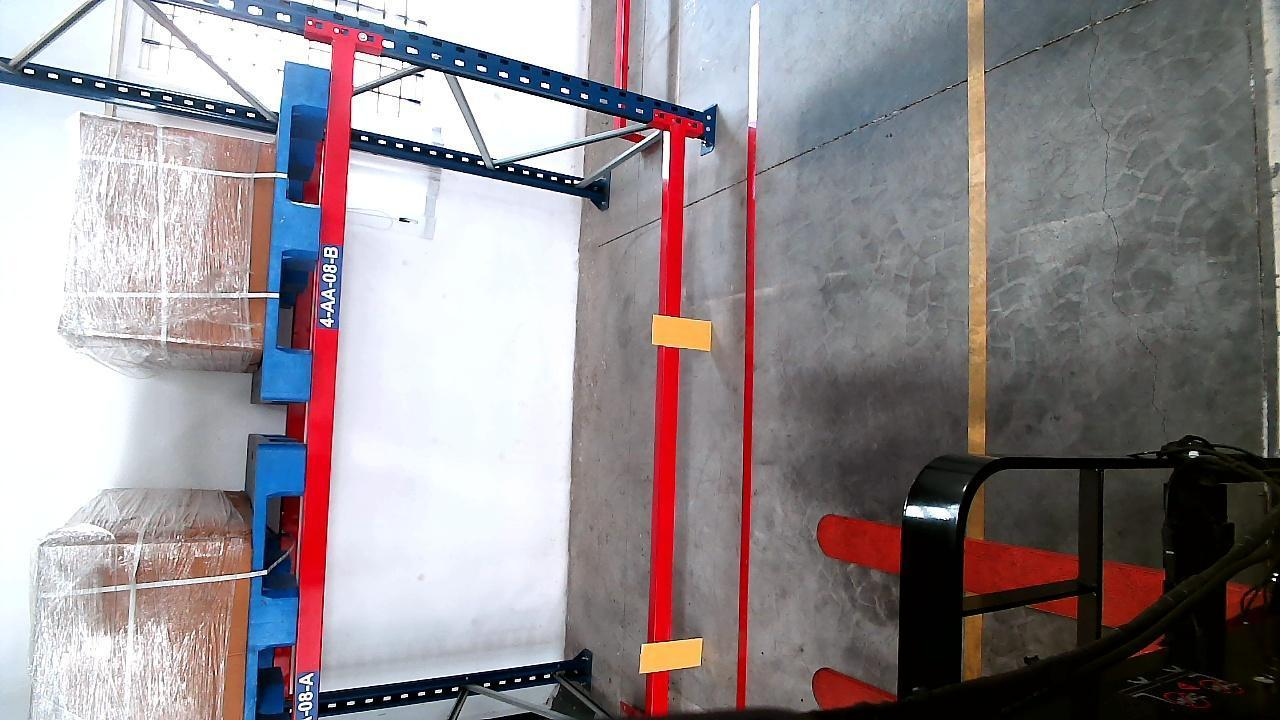h_rack: (299, 42, 352, 709), (650, 127, 686, 713)
orange_strip: (641, 636, 705, 673), (654, 315, 712, 348)
red_line: (732, 125, 761, 709)
small_pallet: (270, 61, 332, 404), (247, 448, 305, 713)
yellow_line: (966, 0, 991, 446)
